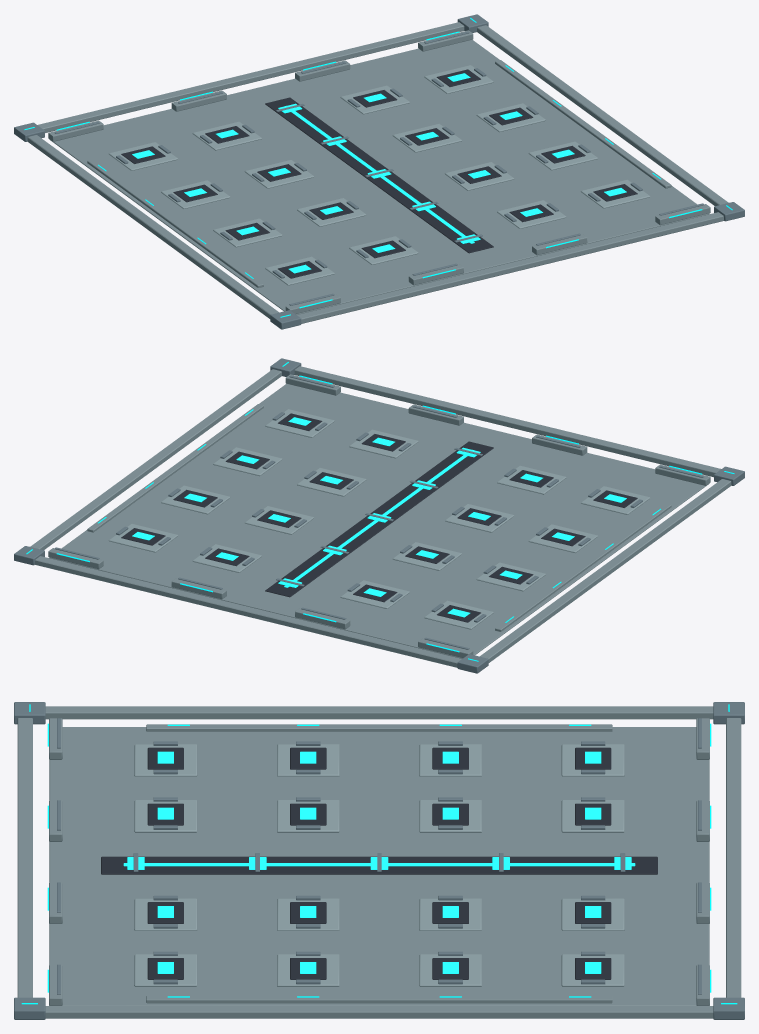
File: sector_1_capacitor_field.glb
The picture shows the model from 3 angles, top to bottom: view 1: azimuth 30°, elevation 25°; view 2: azimuth 150°, elevation 25°; view 3: azimuth 270°, elevation 25°; orthographic projection. The views are drawn at different scales.
Parts seen in each view (by area): view 1: CapacitorFieldPrimaryPowerDeck, CapacitorFieldNorthBoundaryMachineWall, CapacitorFieldSouthBoundaryMachineWall, CapacitorFieldCentralPowerSpineBase, CapacitorFieldWestBoundaryMachineWall, CapacitorFieldEastBoundaryMachineWall, CapacitorFieldSidePowerBus1, CapacitorFieldSidePowerBus0, CapacitorFieldCentralCyanEnergySpine, CapacitorFieldStorageCellBase0, CapacitorFieldStorageCellBase13, CapacitorFieldStorageCellBase3 (+16 smaller); view 2: CapacitorFieldPrimaryPowerDeck, CapacitorFieldSouthBoundaryMachineWall, CapacitorFieldNorthBoundaryMachineWall, CapacitorFieldCentralPowerSpineBase, CapacitorFieldWestBoundaryMachineWall, CapacitorFieldEastBoundaryMachineWall, CapacitorFieldSidePowerBus1, CapacitorFieldSidePowerBus0, CapacitorFieldCentralCyanEnergySpine, CapacitorFieldStorageCellBase1, CapacitorFieldStorageCellBase12, CapacitorFieldStorageCellBase15 (+16 smaller); view 3: CapacitorFieldPrimaryPowerDeck, CapacitorFieldWestBoundaryMachineWall, CapacitorFieldEastBoundaryMachineWall, CapacitorFieldCentralPowerSpineBase, CapacitorFieldNorthBoundaryMachineWall, CapacitorFieldSouthBoundaryMachineWall, CapacitorFieldSidePowerBus1, CapacitorFieldSidePowerBus0, CapacitorFieldCentralCyanEnergySpine, CapacitorFieldStorageCellBase1, CapacitorFieldStorageCellBase13, CapacitorFieldStorageCellBase0 (+33 smaller).
Part boxes in pixels (x1,y1,x2,y2): CapacitorFieldPrimaryPowerDeck: (49, 39, 709, 314); CapacitorFieldNorthBoundaryMachineWall: (297, 212, 723, 323); CapacitorFieldSouthBoundaryMachineWall: (37, 22, 464, 132); CapacitorFieldCentralPowerSpineBase: (265, 97, 493, 253); CapacitorFieldWestBoundaryMachineWall: (27, 135, 278, 318); CapacitorFieldEastBoundaryMachineWall: (477, 25, 728, 205); CapacitorFieldSidePowerBus1: (495, 60, 671, 188); CapacitorFieldSidePowerBus0: (87, 159, 263, 287); CapacitorFieldCentralCyanEnergySpine: (291, 111, 474, 243); CapacitorFieldStorageCellBase0: (265, 256, 334, 285); CapacitorFieldStorageCellBase13: (192, 121, 261, 150); CapacitorFieldStorageCellBase3: (581, 179, 650, 208); CapacitorFieldPrimaryPowerDeck: (49, 383, 709, 658); CapacitorFieldSouthBoundaryMachineWall: (35, 556, 461, 667); CapacitorFieldNorthBoundaryMachineWall: (294, 366, 721, 477); CapacitorFieldCentralPowerSpineBase: (265, 441, 493, 597); CapacitorFieldWestBoundaryMachineWall: (480, 479, 731, 662); CapacitorFieldEastBoundaryMachineWall: (30, 369, 281, 549); CapacitorFieldSidePowerBus1: (87, 404, 263, 532); CapacitorFieldSidePowerBus0: (495, 503, 671, 631); CapacitorFieldCentralCyanEnergySpine: (284, 455, 467, 587); CapacitorFieldStorageCellBase1: (497, 465, 566, 494); CapacitorFieldStorageCellBase12: (424, 600, 493, 629); CapacitorFieldStorageCellBase15: (108, 523, 177, 552); CapacitorFieldPrimaryPowerDeck: (49, 727, 709, 1005); CapacitorFieldWestBoundaryMachineWall: (45, 706, 713, 719); CapacitorFieldEastBoundaryMachineWall: (45, 1006, 713, 1018); CapacitorFieldCentralPowerSpineBase: (101, 856, 657, 874); CapacitorFieldNorthBoundaryMachineWall: (17, 718, 32, 997); CapacitorFieldSouthBoundaryMachineWall: (726, 718, 741, 997); CapacitorFieldSidePowerBus1: (146, 995, 612, 1003); CapacitorFieldSidePowerBus0: (146, 724, 612, 731); CapacitorFieldCentralCyanEnergySpine: (123, 863, 635, 866); CapacitorFieldStorageCellBase1: (134, 800, 197, 832); CapacitorFieldStorageCellBase13: (561, 800, 624, 832); CapacitorFieldStorageCellBase0: (134, 744, 197, 776).
Bounding box in the file's own units: 56.45 × 1.08 × 56.45.
